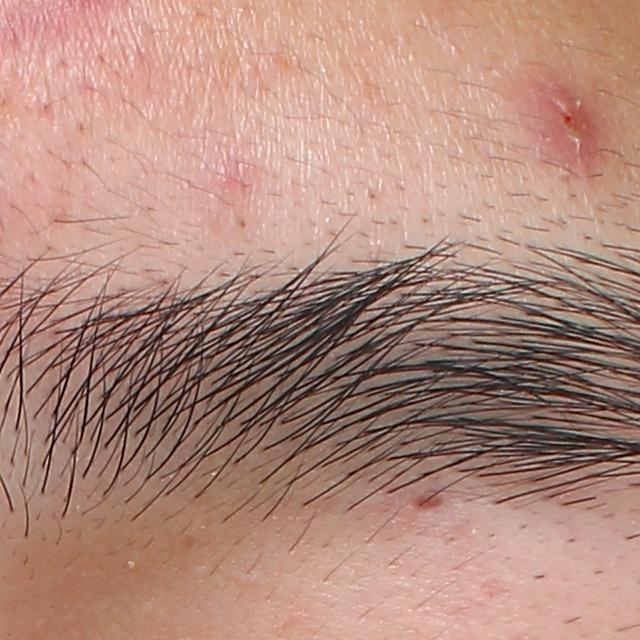papule: (523, 81, 595, 165)
